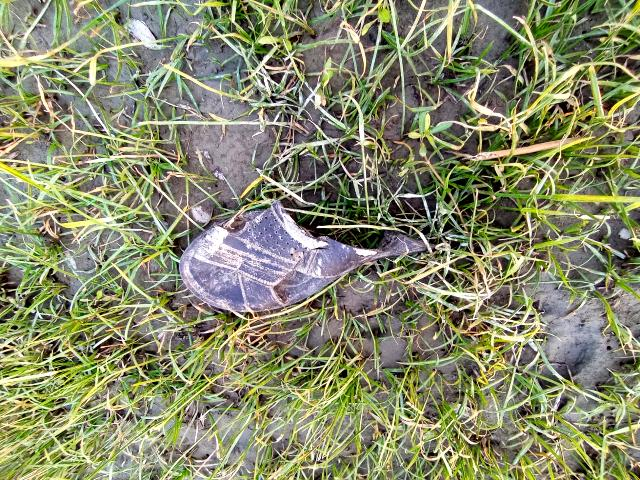sandal: (171, 145, 420, 345)
